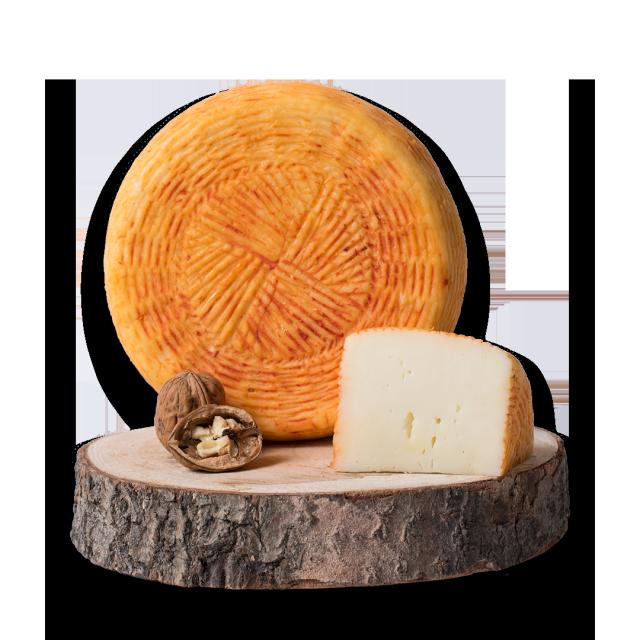Cheese: (105, 70, 478, 441), (328, 315, 532, 485)
